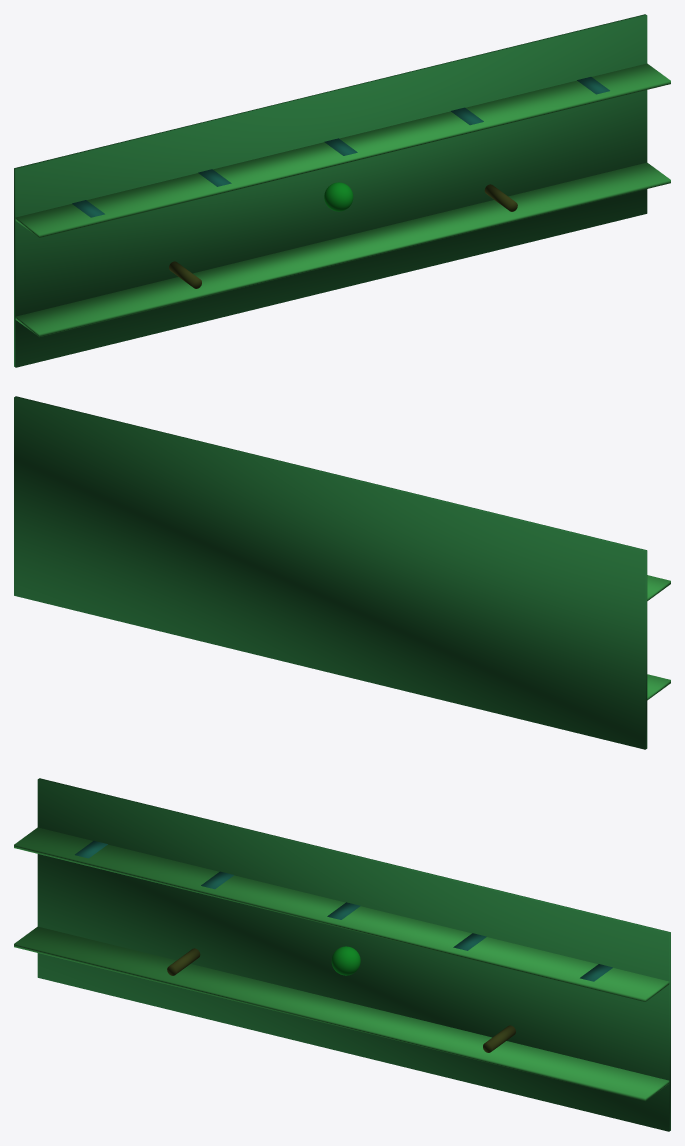
File: trimesh_mesh.dae
3 views of the same model, one above another, from view 1: azimuth 30°, elevation 25°; view 2: azimuth 150°, elevation 25°; view 3: azimuth 330°, elevation 25° (orthographic).
Visible parts, largest first — view 1: node0; view 2: node0; view 3: node0.
Part boxes in pixels (<box>): node0: <box>14,14,670,367</box>; node0: <box>14,396,670,749</box>; node0: <box>14,778,670,1131</box>.
Bounding box in the file's own units: 40 × 12 × 2.8.
